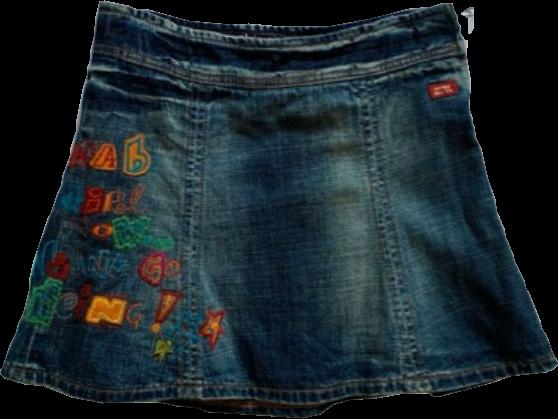Hemline: (0, 363, 557, 405)
Waistline: (89, 50, 467, 90), (99, 0, 452, 41)
